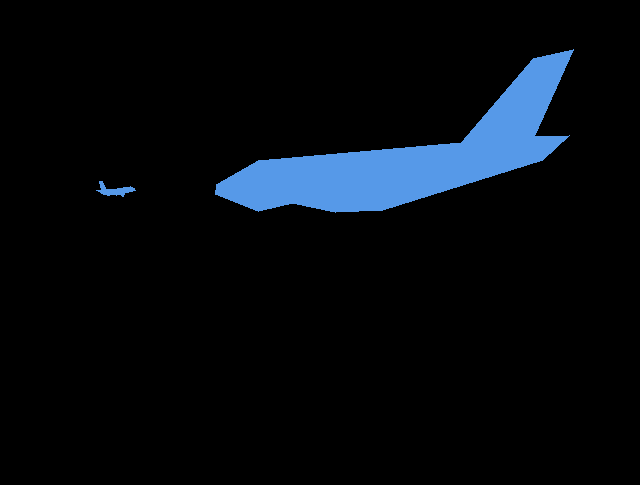Airplane: (215, 49, 574, 212), (96, 181, 136, 197)
